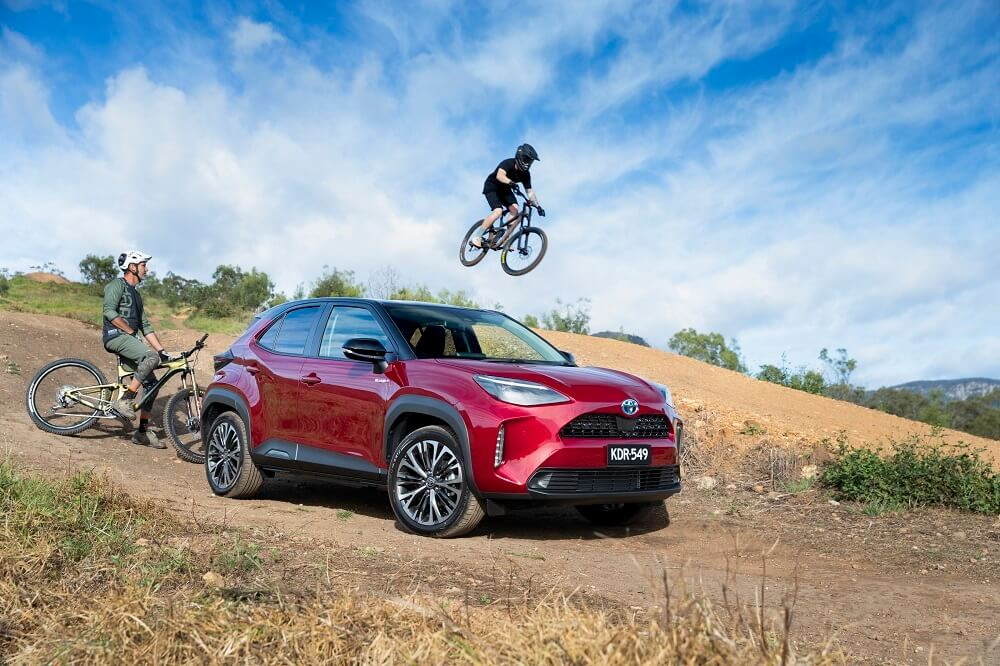car: (201, 298, 681, 539)
